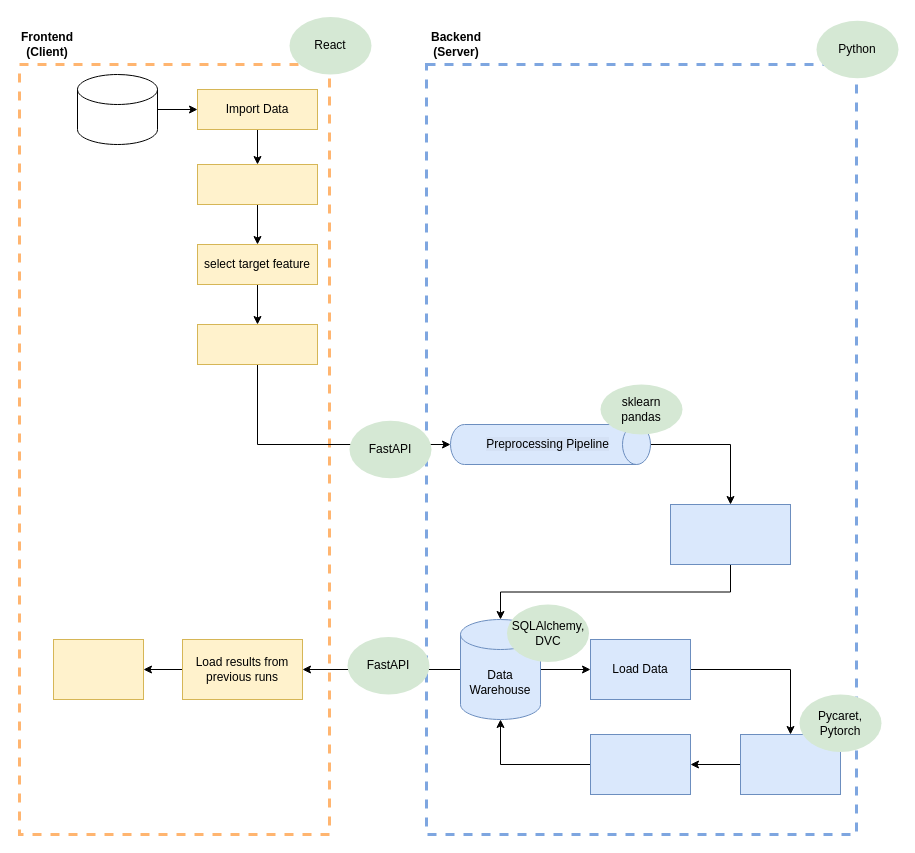
Some shapes in this 915 by 853 pixel diagram are drawn without their labels. The shapes that lost their labels are listed below. From the top down, each one's centre as x and y in pixels, then its label:
(117,109): local Drive
(257,184): classify features
(257,344): Run Frunch Infinity
(730,534): store preprocessed data
(98,669): Show results
(640,764): Store results
(790,764): Train different models
